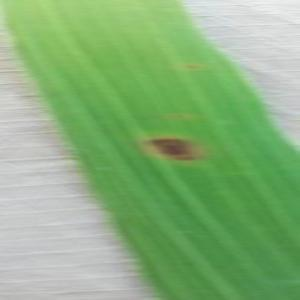0 BrownSpot: (138, 128, 203, 167)
